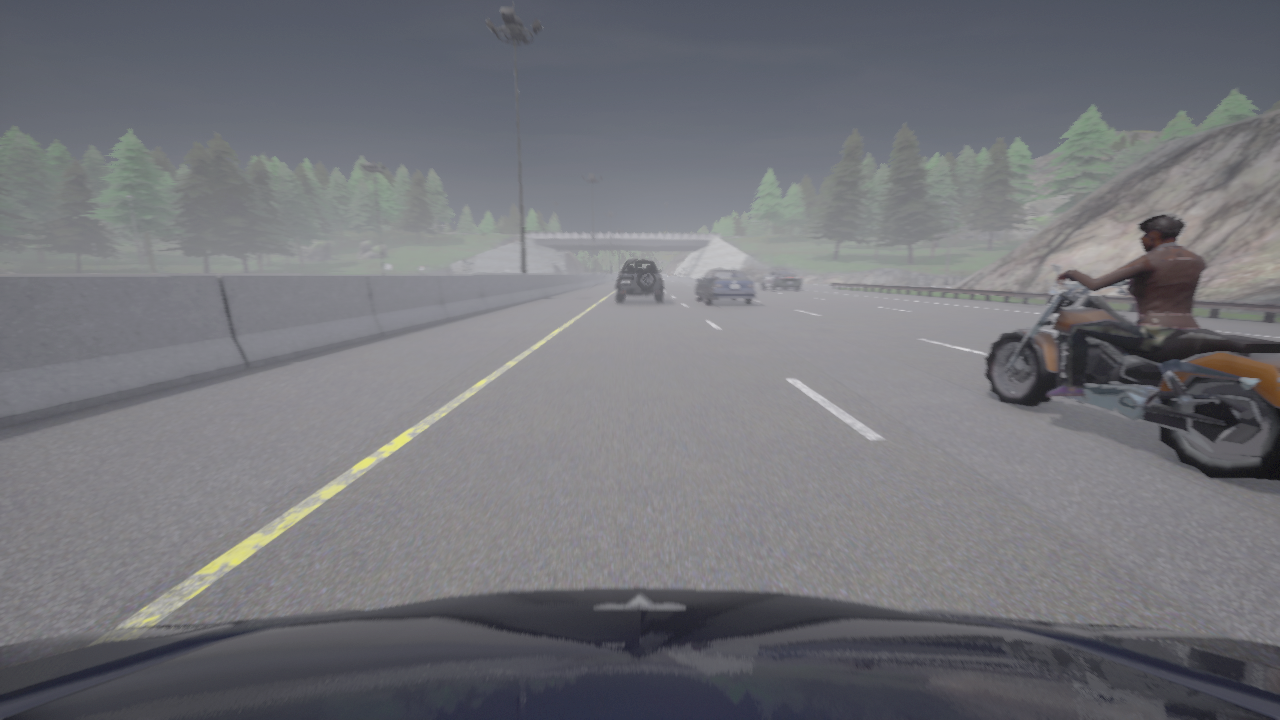cyclist: (0, 588, 1279, 719), (984, 263, 1279, 480), (696, 269, 756, 304), (616, 258, 663, 302), (761, 269, 802, 290)
